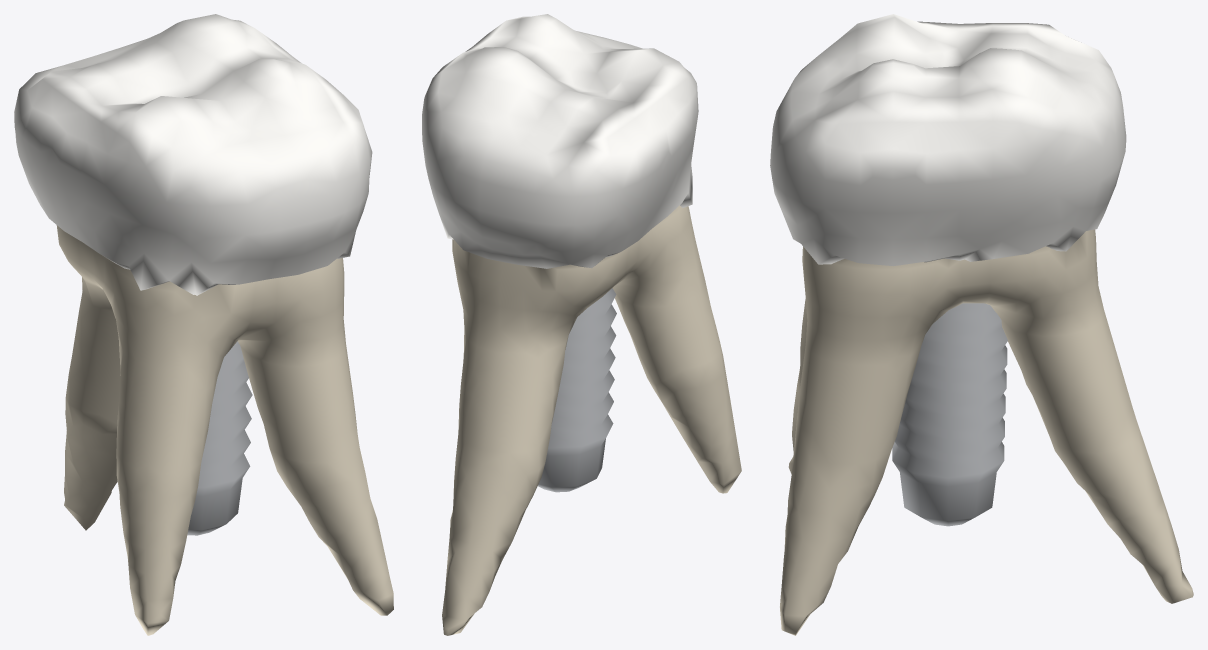
3 views of the same model, side by side, from view 1: azimuth 30°, elevation 25°; view 2: azimuth 150°, elevation 25°; view 3: azimuth 270°, elevation 25° (orthographic). The views are drawn at different scales.
Parts seen in each view (by area): view 1: crown, root, implant; view 2: crown, root, implant; view 3: crown, root, implant.
Part boxes in pixels (x1,y1,x2,y2): crown: (14,14,372,295); root: (56,225,393,635); implant: (187,341,252,535); crown: (422,14,698,268); root: (442,205,741,635); implant: (538,288,616,492); crown: (770,14,1126,266); root: (780,229,1193,635); implant: (892,303,1007,526).
Size of the model in its own units: 9.15 by 18.73 by 12.72.
